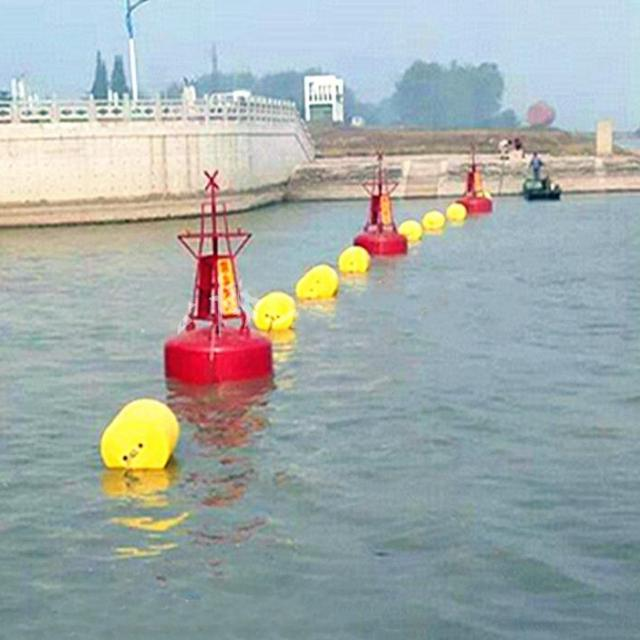buoy: (167, 170, 279, 381), (345, 146, 417, 260), (462, 145, 496, 214)
